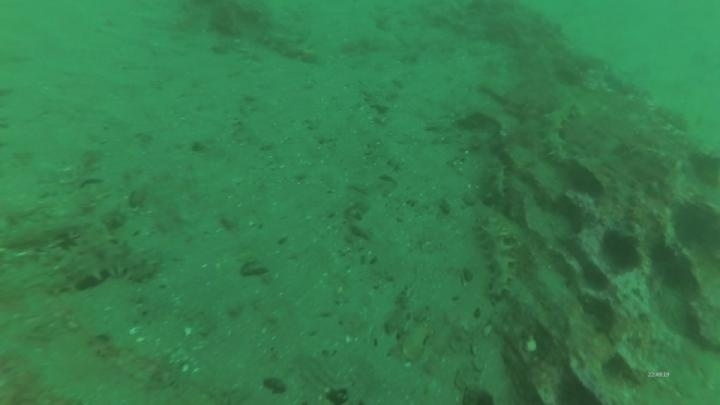holothurian: (41, 239, 162, 298), (473, 212, 518, 303), (537, 99, 581, 168), (255, 24, 322, 66)
